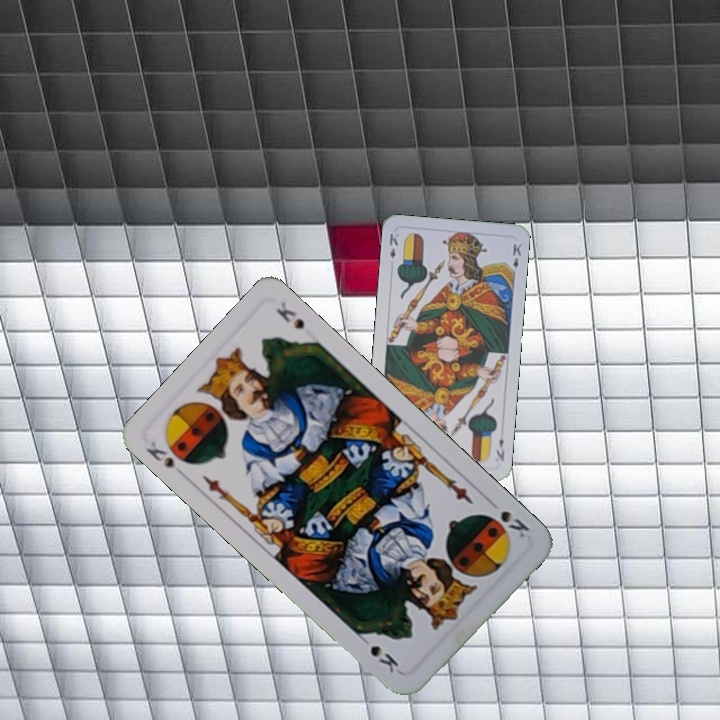EK: (385, 229, 402, 261), (492, 434, 507, 463)
SK: (142, 435, 194, 480), (496, 506, 533, 541)
